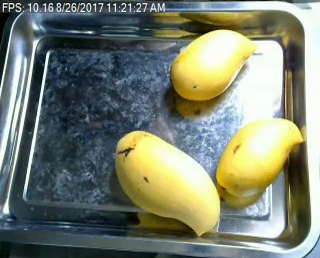Mango: (116, 131, 219, 237), (217, 116, 303, 198), (169, 28, 256, 101)
